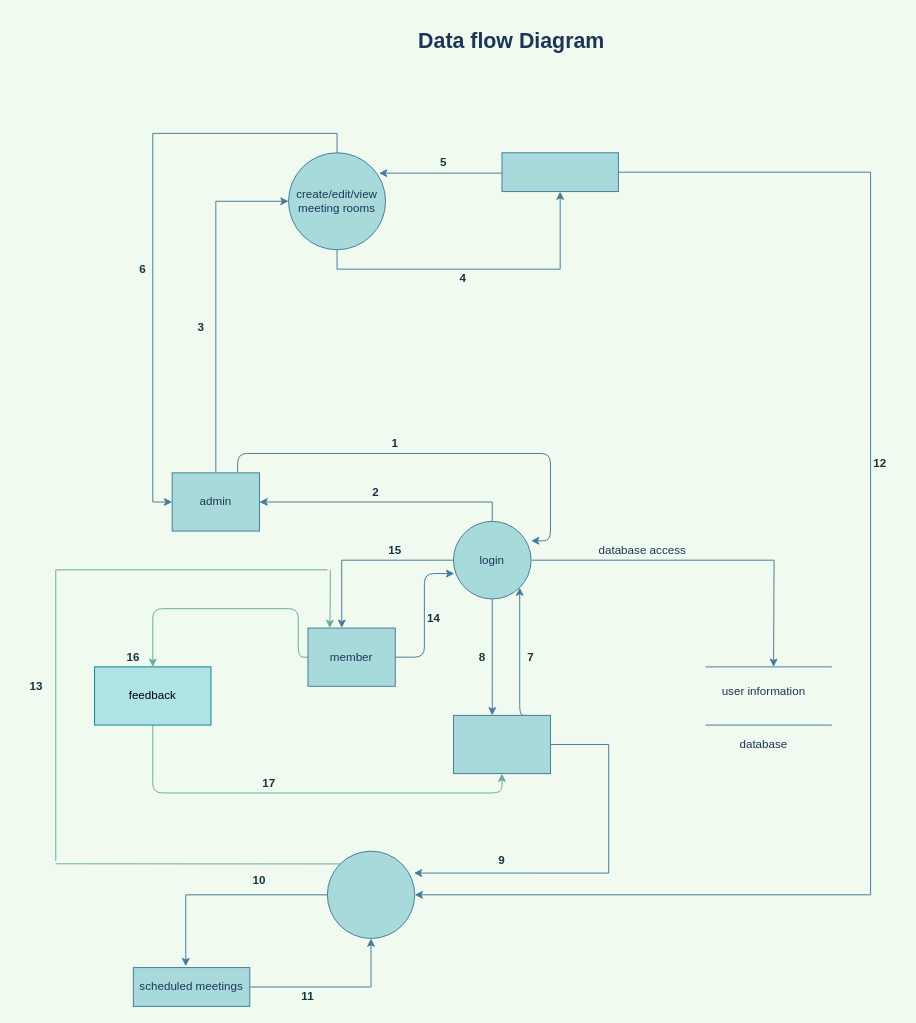
Image size: 916x1023. Some labels were removed from this diagram. Here are the shapes that lost their labels. From the top down, the box of each, then its label:
(501, 152, 618, 192): meeting rooms
(453, 714, 550, 774): manager
(326, 850, 415, 938): organise meeting
